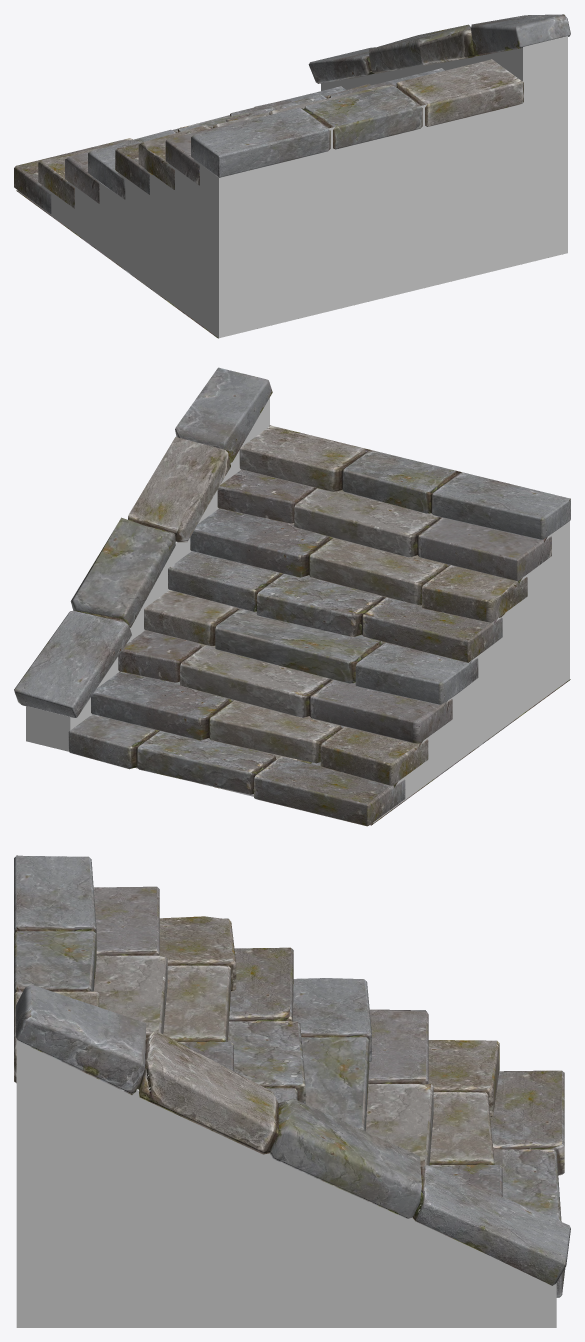
The picture shows the model from 3 angles, top to bottom: view 1: azimuth 30°, elevation 25°; view 2: azimuth 150°, elevation 25°; view 3: azimuth 270°, elevation 25°; orthographic projection. The views are drawn at different scales.
Parts seen in each view (by area): view 1: SM_DR_Steps_4x2_01_v1_LOD0; view 2: SM_DR_Steps_4x2_01_v1_LOD0; view 3: SM_DR_Steps_4x2_01_v1_LOD0.
Part boxes in pixels (x1,y1,x2,y2): SM_DR_Steps_4x2_01_v1_LOD0: (14,14,570,338); SM_DR_Steps_4x2_01_v1_LOD0: (14,367,570,826); SM_DR_Steps_4x2_01_v1_LOD0: (14,855,570,1327).
Bounding box in the file's own units: 4.11 × 2.56 × 4.13.
2 materials, 1 textured.
